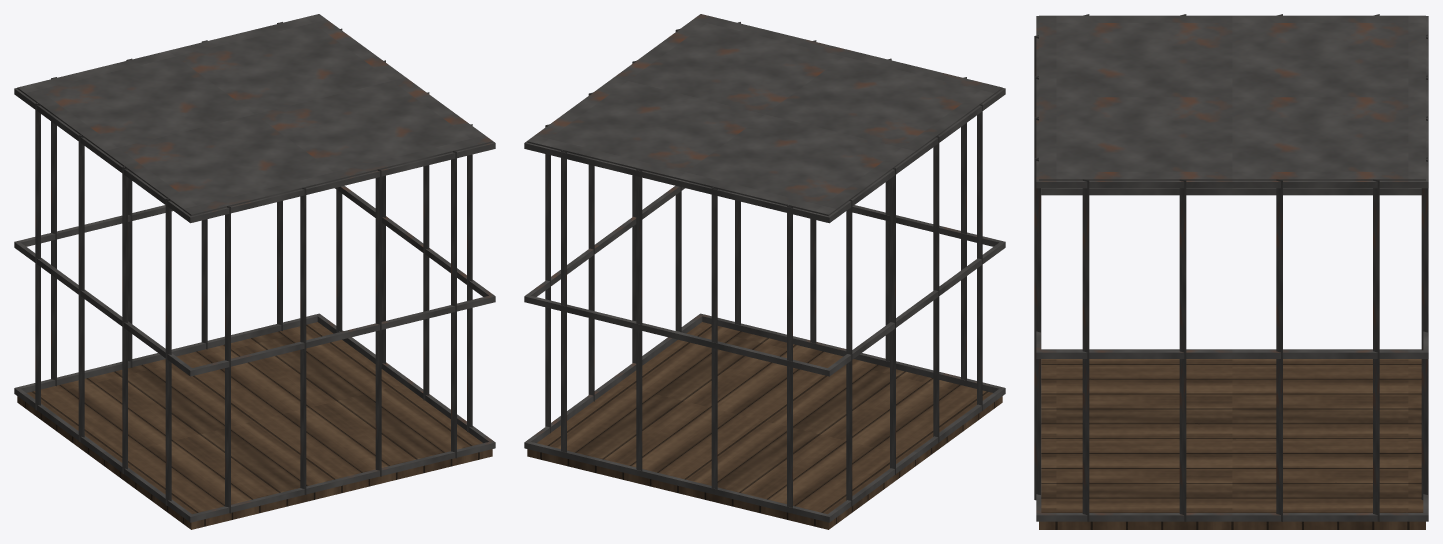
The model's file is Cage_Large_LOD1.gltf.
3 views of the same model, side by side, from view 1: azimuth 30°, elevation 25°; view 2: azimuth 150°, elevation 25°; view 3: azimuth 270°, elevation 25° (orthographic). The views are drawn at different scales.
Parts seen in each view (by area): view 1: Cage_Large_LOD1; view 2: Cage_Large_LOD1; view 3: Cage_Large_LOD1.
Boxes of the visible parts, x1,y1,x2,y2 form: Cage_Large_LOD1: [14, 14, 495, 529]; Cage_Large_LOD1: [524, 14, 1005, 529]; Cage_Large_LOD1: [1034, 14, 1428, 529].
Size of the model in its own units: 2.24 by 2.2 by 2.24.
Materials: 2 (2 with a texture image).
